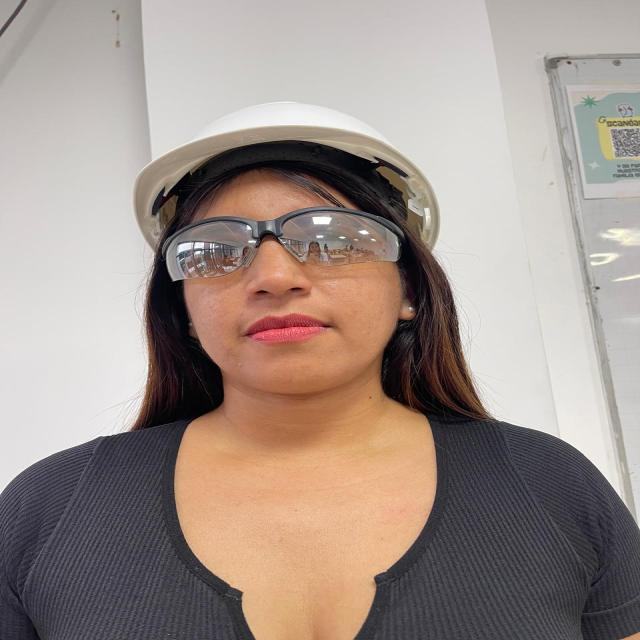helmet: (125, 88, 448, 227)
protective_glasses: (155, 198, 409, 289)
